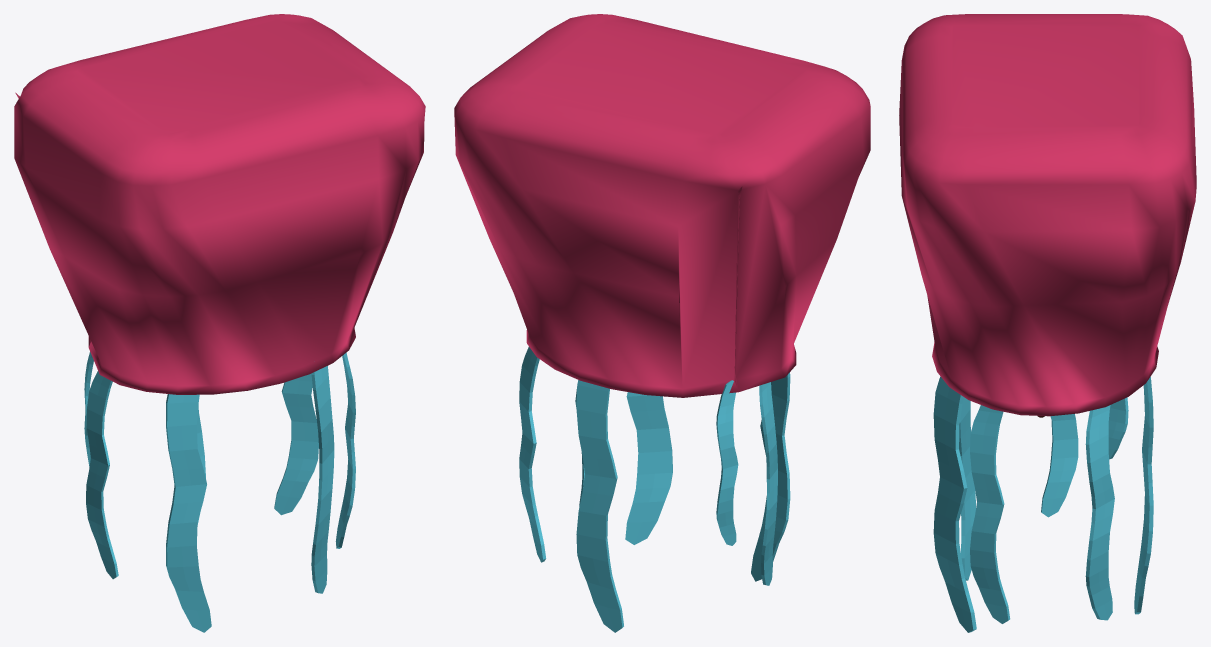
The model's file is lantern.glb.
3 renders of one model, left to right at view 1: azimuth 30°, elevation 25°; view 2: azimuth 150°, elevation 25°; view 3: azimuth 270°, elevation 25°, orthographic. The views are drawn at different scales.
Visible parts, largest first — view 1: Cube, Cube.011, Cube.004, Cube.009, Cube.001, Cube.002; view 2: Cube, Cube.006, Cube.001, Cube.011, Cube.004, Cube.008, Cube.009; view 3: Cube, Cube.001, Cube.002, Cube.004, Cube.009, Cube.006, Cube.011, Cube.008.
Boxes of the visible parts, x1,y1,x2,y2 form: Cube: (14,14,425,394); Cube.011: (166,394,211,632); Cube.004: (274,373,318,515); Cube.009: (86,371,118,579); Cube.001: (311,366,334,593); Cube.002: (335,352,355,548); Cube: (454,14,870,397); Cube.006: (576,380,623,632); Cube.001: (625,392,672,544); Cube.011: (751,372,790,581); Cube.004: (519,347,546,562); Cube.008: (716,380,738,545); Cube.009: (759,382,777,585); Cube: (899,14,1196,416); Cube.001: (933,376,976,632); Cube.002: (970,405,1010,623); Cube.004: (1085,405,1114,620); Cube.009: (1041,414,1078,517); Cube.006: (1134,377,1153,614); Cube.011: (959,397,975,580); Cube.008: (1108,397,1128,459).
Size of the model in its own units: 2.27 by 3.48 by 1.74.
